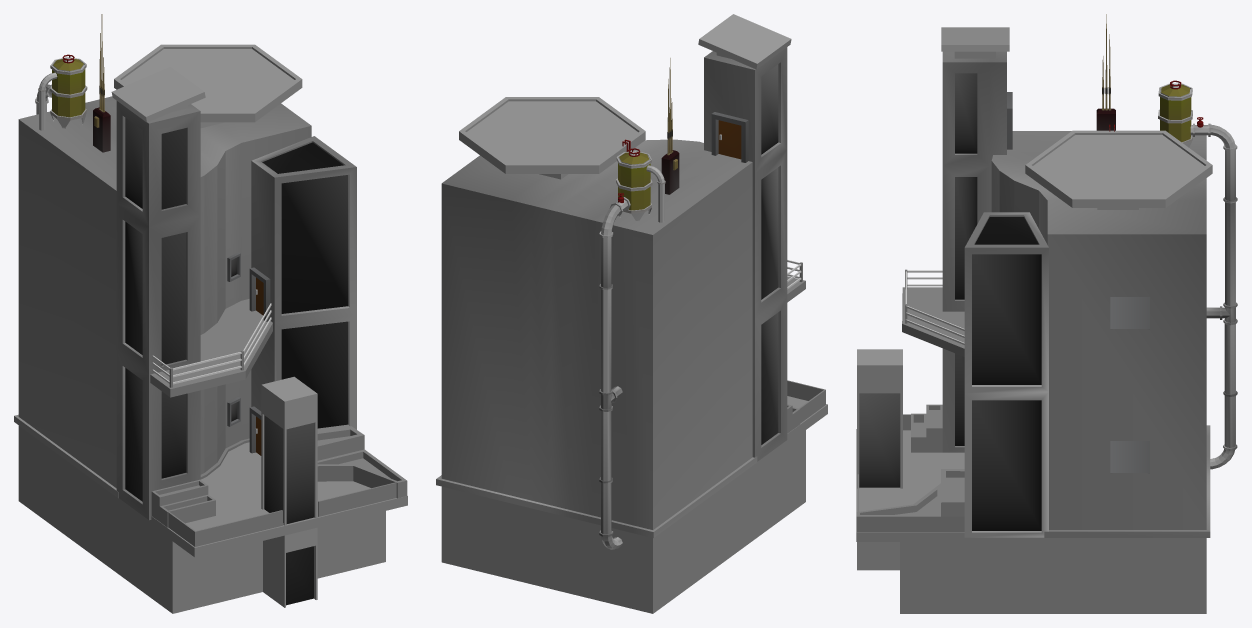
File: edificioLux.fbx
3 renders of one model, left to right at view 1: azimuth 30°, elevation 25°; view 2: azimuth 150°, elevation 25°; view 3: azimuth 270°, elevation 25°, orthographic.
Visible parts, largest first — view 1: edificioLux; view 2: edificioLux; view 3: edificioLux.
Boxes of the visible parts, bbox=[...] form: edificioLux: bbox=[14, 14, 407, 613]; edificioLux: bbox=[436, 14, 827, 613]; edificioLux: bbox=[856, 14, 1237, 613].
Bounding box in the file's own units: 1129 × 2405 × 1622.
